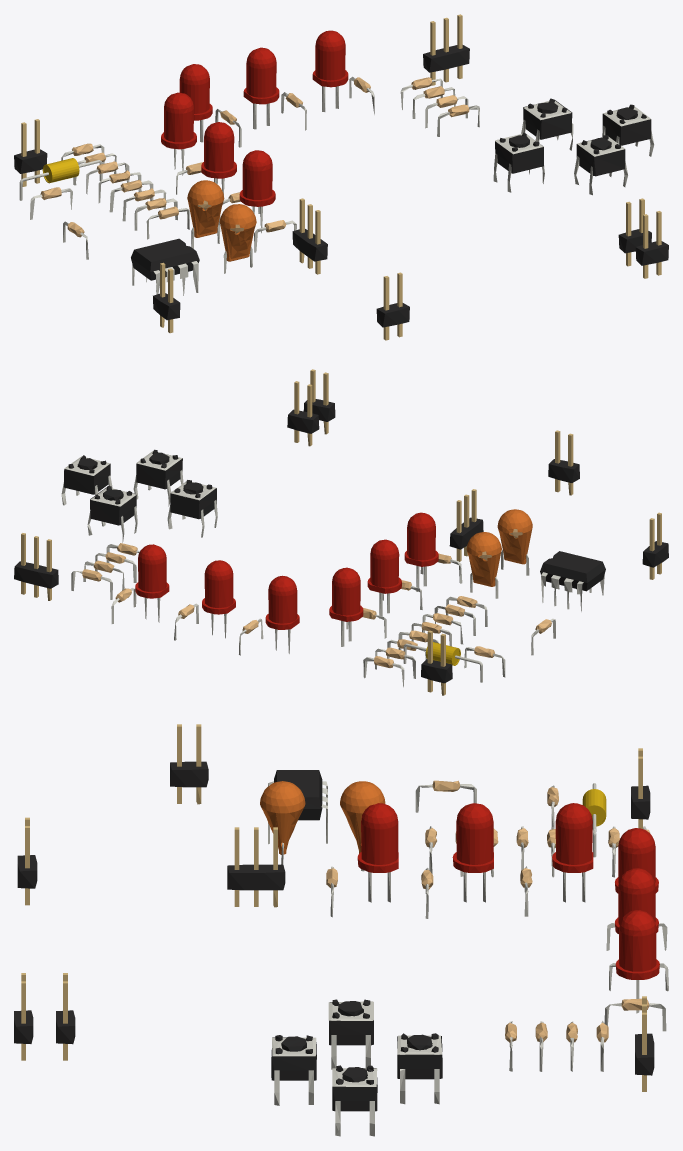
File: custom-pcb-parts.glb
3 views of the same model, one above another, from view 1: azimuth 30°, elevation 25°; view 2: azimuth 150°, elevation 25°; view 3: azimuth 270°, elevation 25° (orthographic). The views are drawn at different scales.
Visible parts, largest first — view 1: =>[0:1:1:5], =>[0:1:1:3], =>[0:1:1:9], =>[0:1:1:17], =>[0:1:1:15]; view 2: =>[0:1:1:5], =>[0:1:1:3], =>[0:1:1:9], =>[0:1:1:17], =>[0:1:1:15]; view 3: =>[0:1:1:5], =>[0:1:1:9], =>[0:1:1:3], =>[0:1:1:17], =>[0:1:1:15].
Part boxes in pixels (bbox=[...]): =>[0:1:1:5]: bbox=[14, 14, 668, 340]; =>[0:1:1:3]: bbox=[30, 76, 654, 295]; =>[0:1:1:9]: bbox=[161, 30, 348, 206]; =>[0:1:1:17]: bbox=[187, 180, 256, 261]; =>[0:1:1:15]: bbox=[19, 158, 102, 200]; =>[0:1:1:5]: bbox=[14, 369, 668, 695]; =>[0:1:1:3]: bbox=[61, 451, 604, 687]; =>[0:1:1:9]: bbox=[135, 512, 438, 629]; =>[0:1:1:17]: bbox=[466, 509, 532, 586]; =>[0:1:1:15]: bbox=[403, 642, 482, 682]; =>[0:1:1:5]: bbox=[14, 724, 654, 1111]; =>[0:1:1:9]: bbox=[357, 803, 659, 979]; =>[0:1:1:3]: bbox=[268, 780, 668, 1136]; =>[0:1:1:17]: bbox=[260, 781, 385, 854]; =>[0:1:1:15]: bbox=[582, 783, 606, 857].
Bounding box in the file's own units: 0.1037 × 0.0151 × 0.086.
